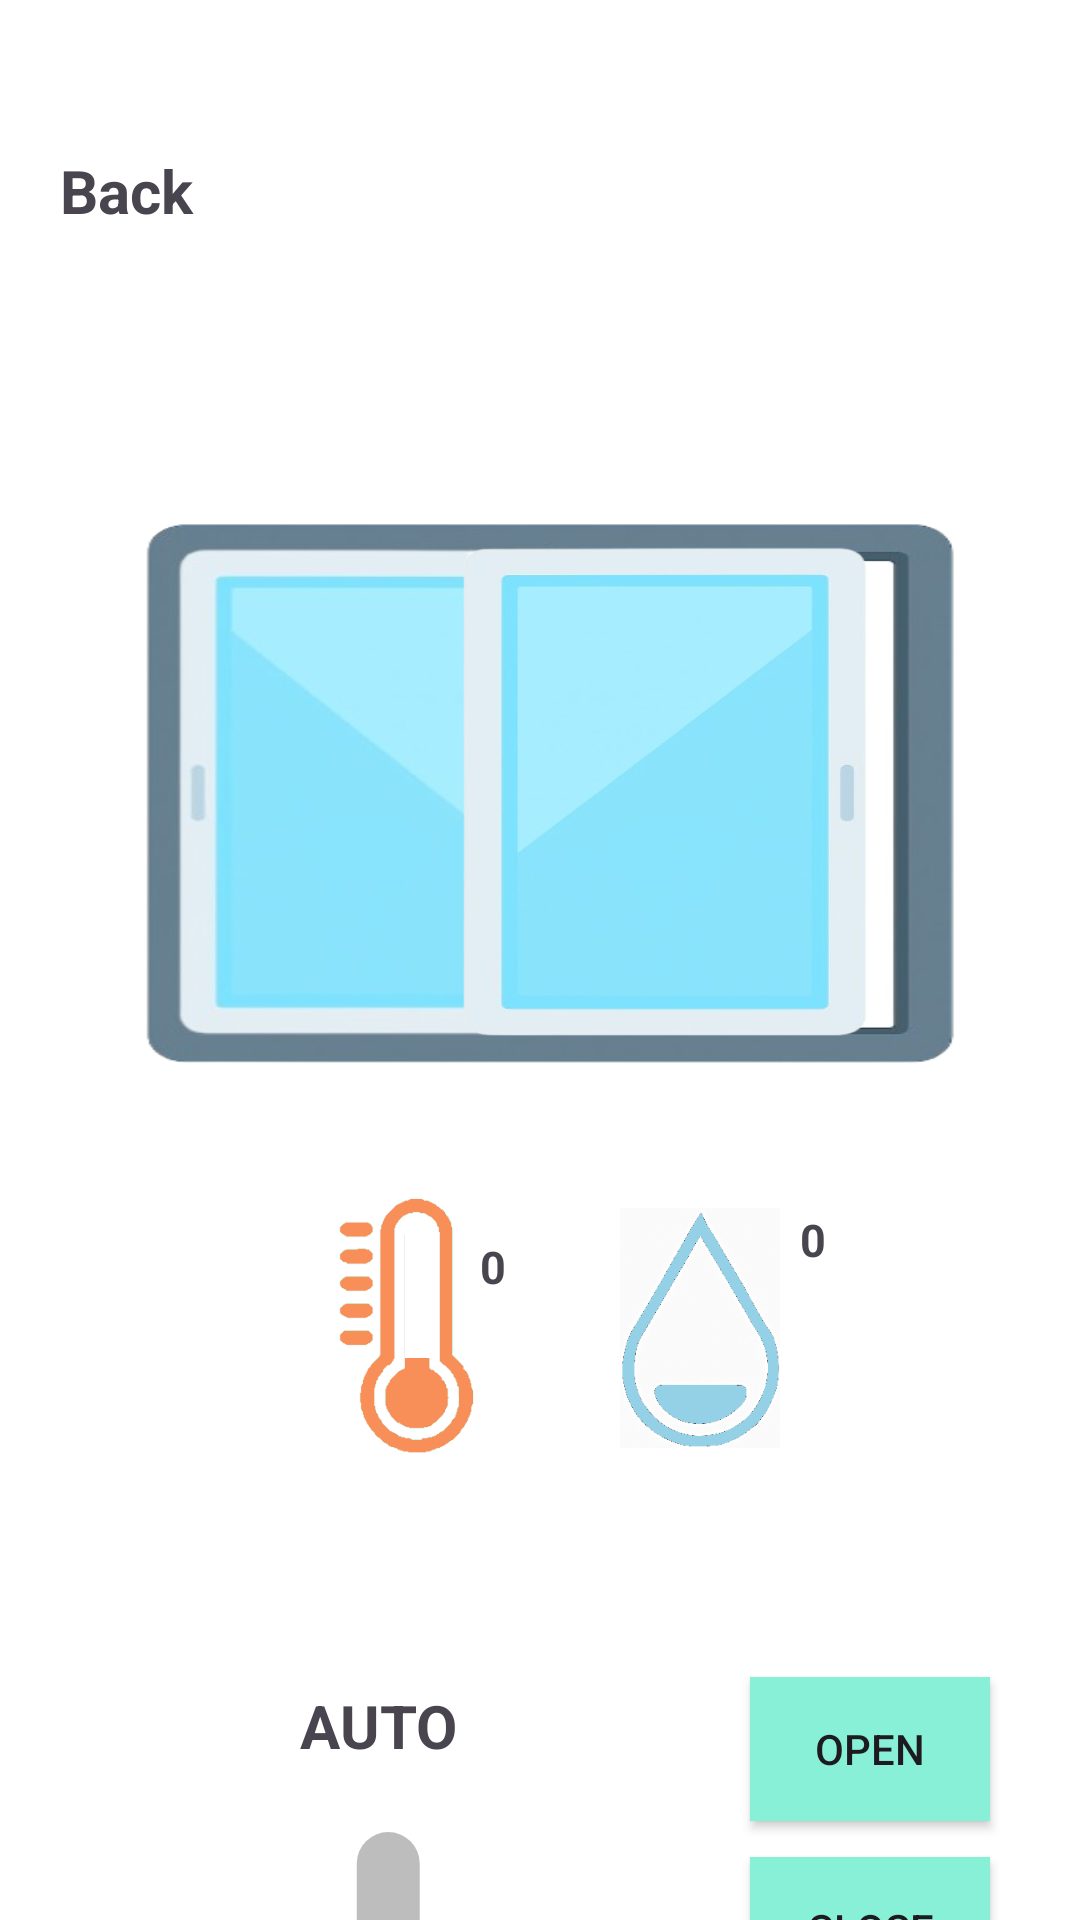

Where icons sit on this 1080 x 1920 app screen, as (x1, y1, x2, y2):
습도 이미지: (622, 1213, 779, 1447)
